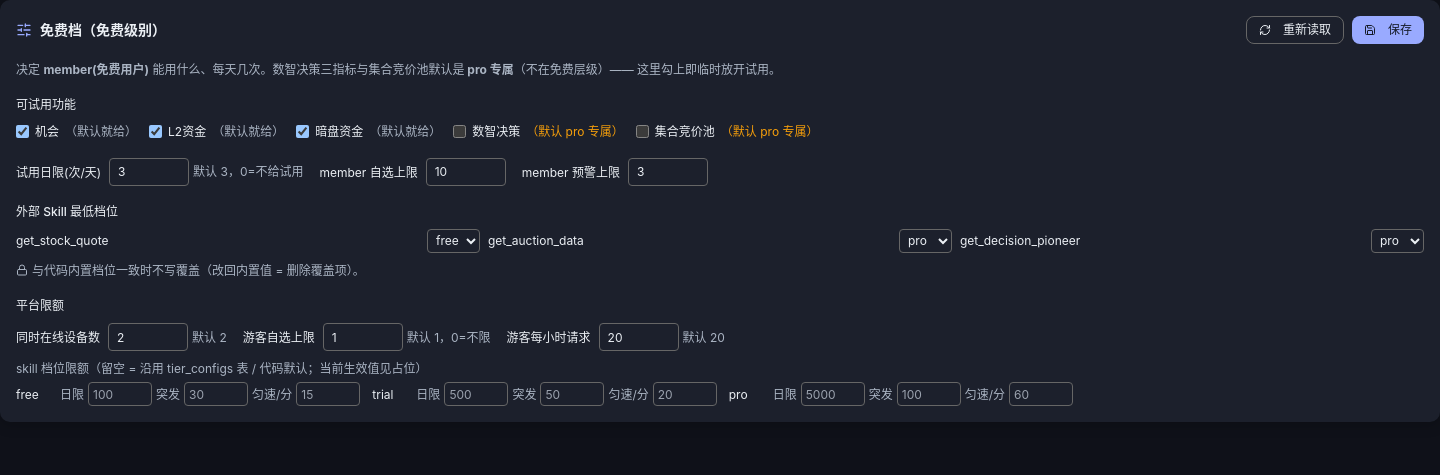
it: 免费档面板 › 勾上数智决策 + 保存 → patch 带 view_forecast(值=中文名)
Step 1. Click the checkbox named "试用-数智决策" → (460, 132), box [453, 126, 466, 138]
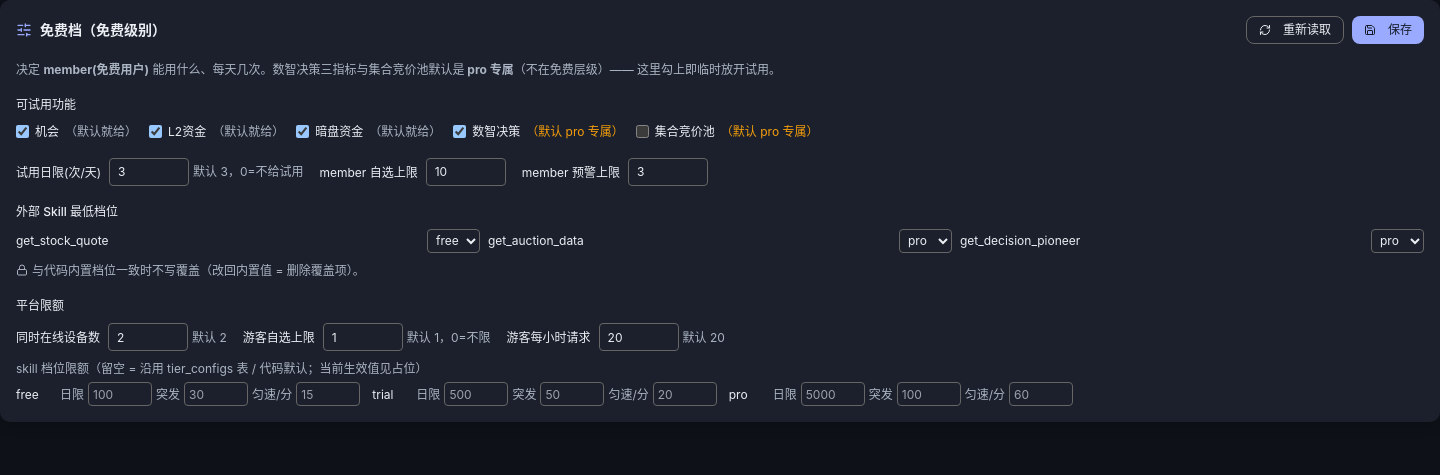
Step 2. Click the button "保存" → (1388, 30), box [1352, 16, 1424, 44]
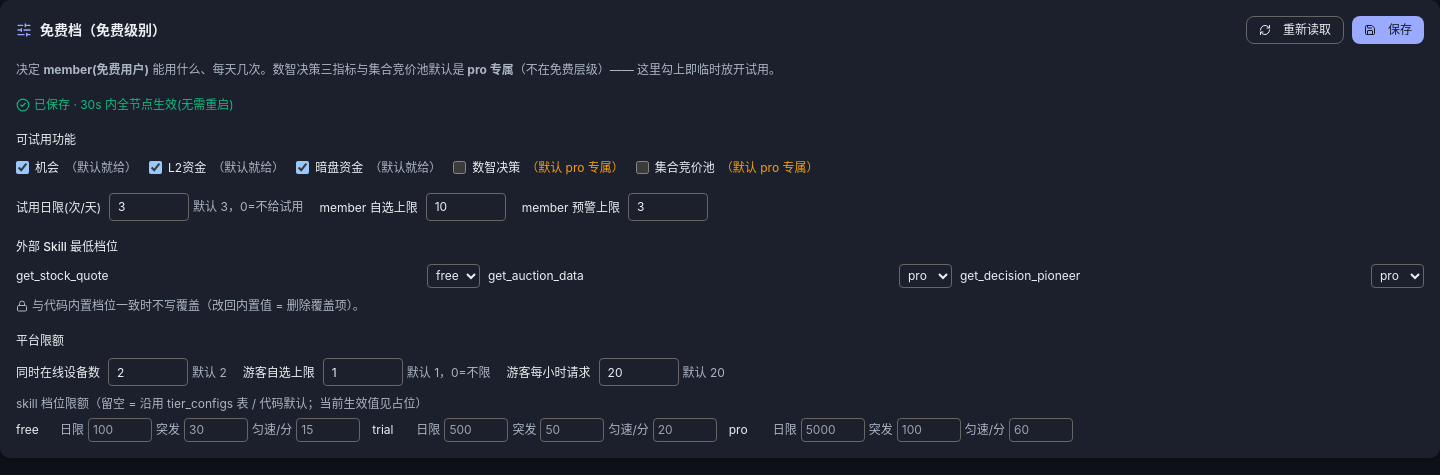
Expected: the text "已保存 · 30s 内全节点生效(无需重启)" is shown, [16, 97, 234, 112]
